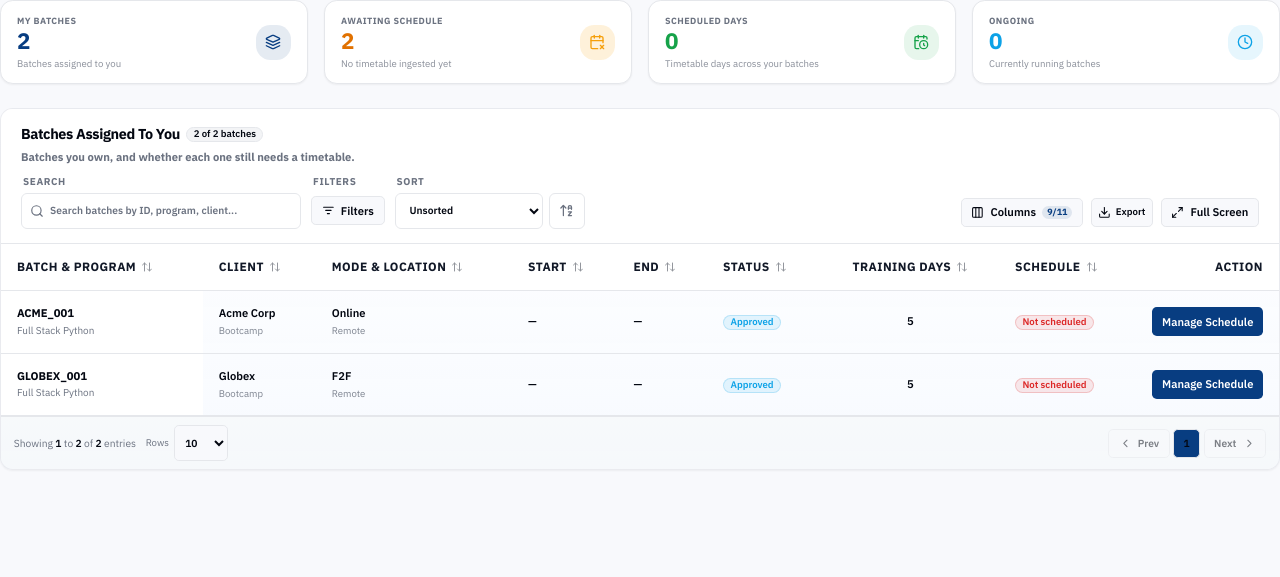
Test case: MyBatchesView filters › narrows rows by delivery mode
Step 1. Click the button "Filters" → (348, 211), box [311,196,384,225]
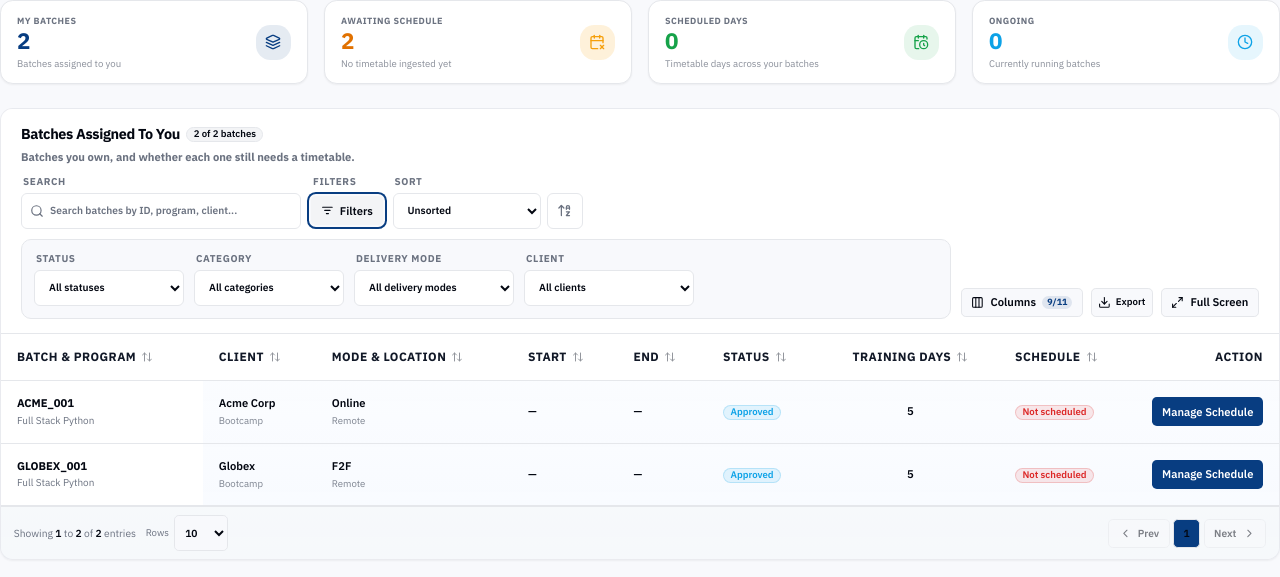
Step 2. Select "F2F" in the dropdown labelled "Delivery Mode" → (434, 288), box [354,270,514,306]
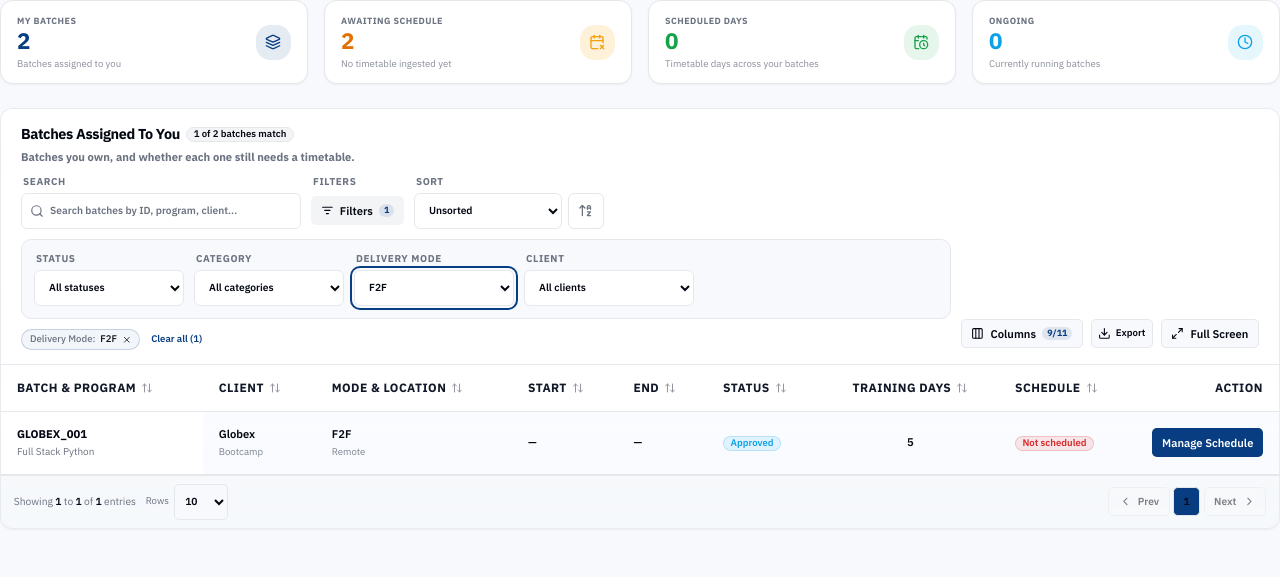
Check: the text "GLOBEX_001" is shown, box [17,427,87,441]
Check: the text "ACME_001" is gone
